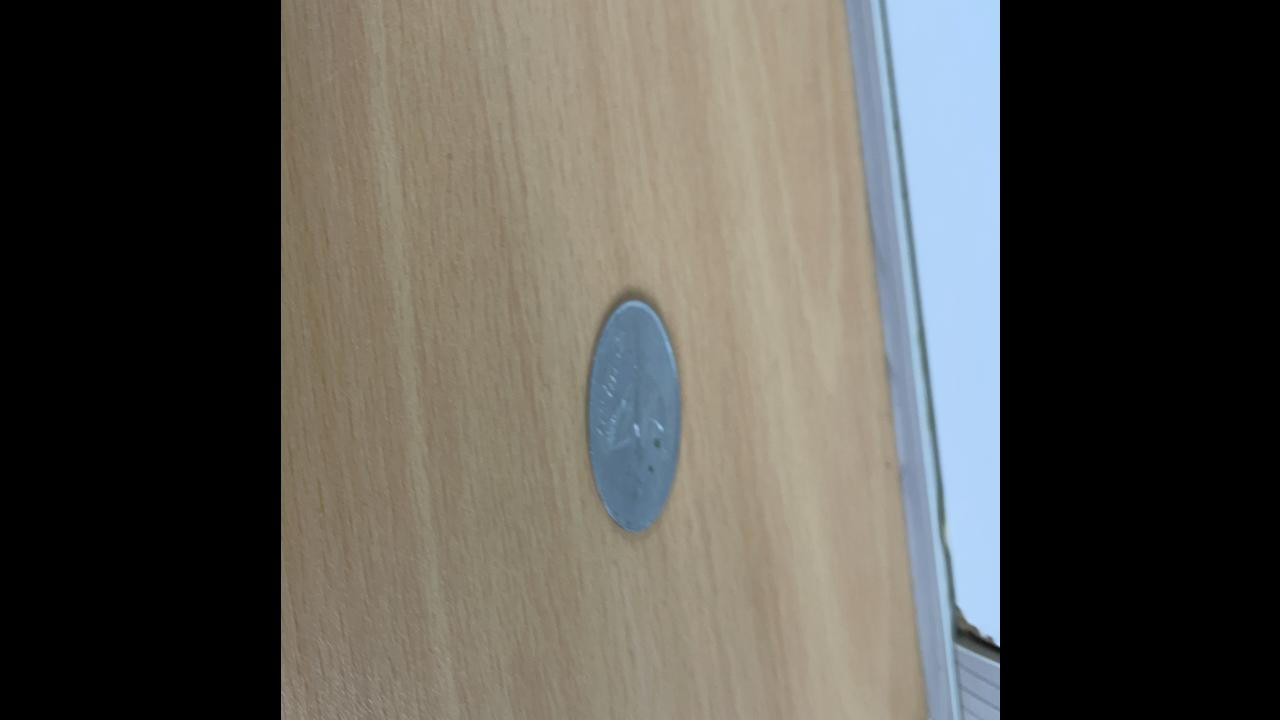coin: (582, 286, 684, 542)
